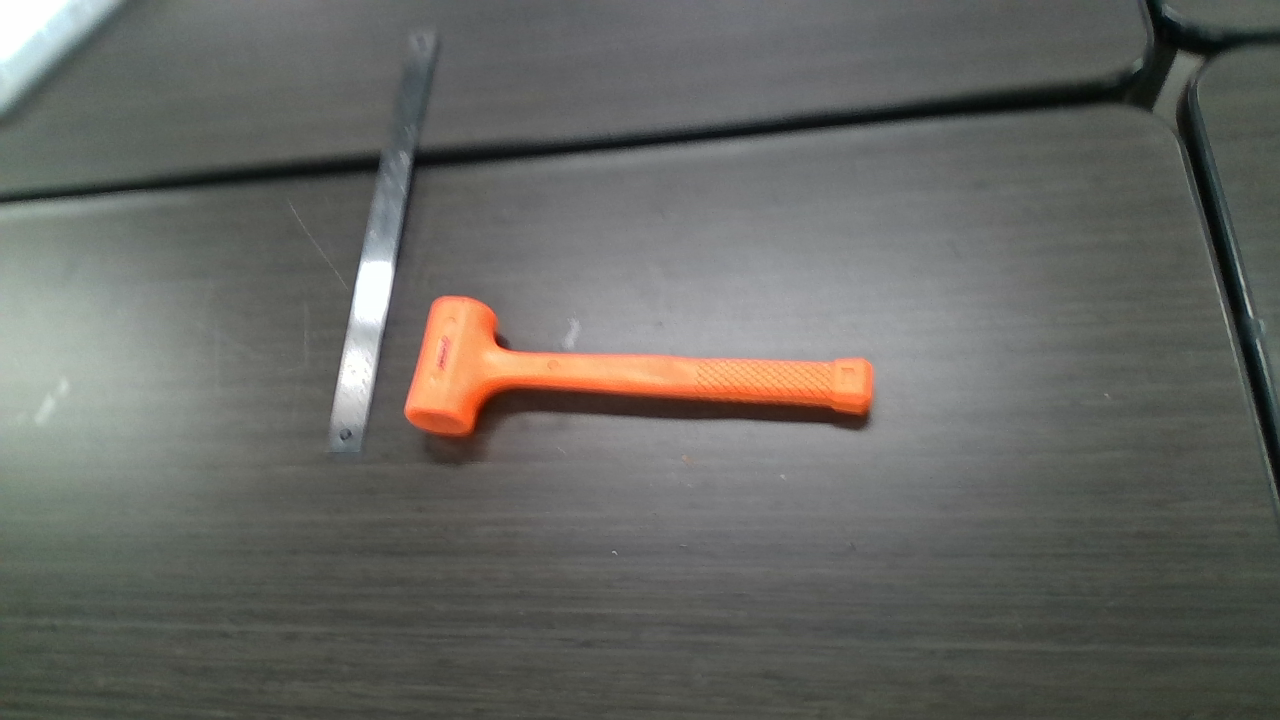Orange Hammer: (409, 297, 875, 436)
